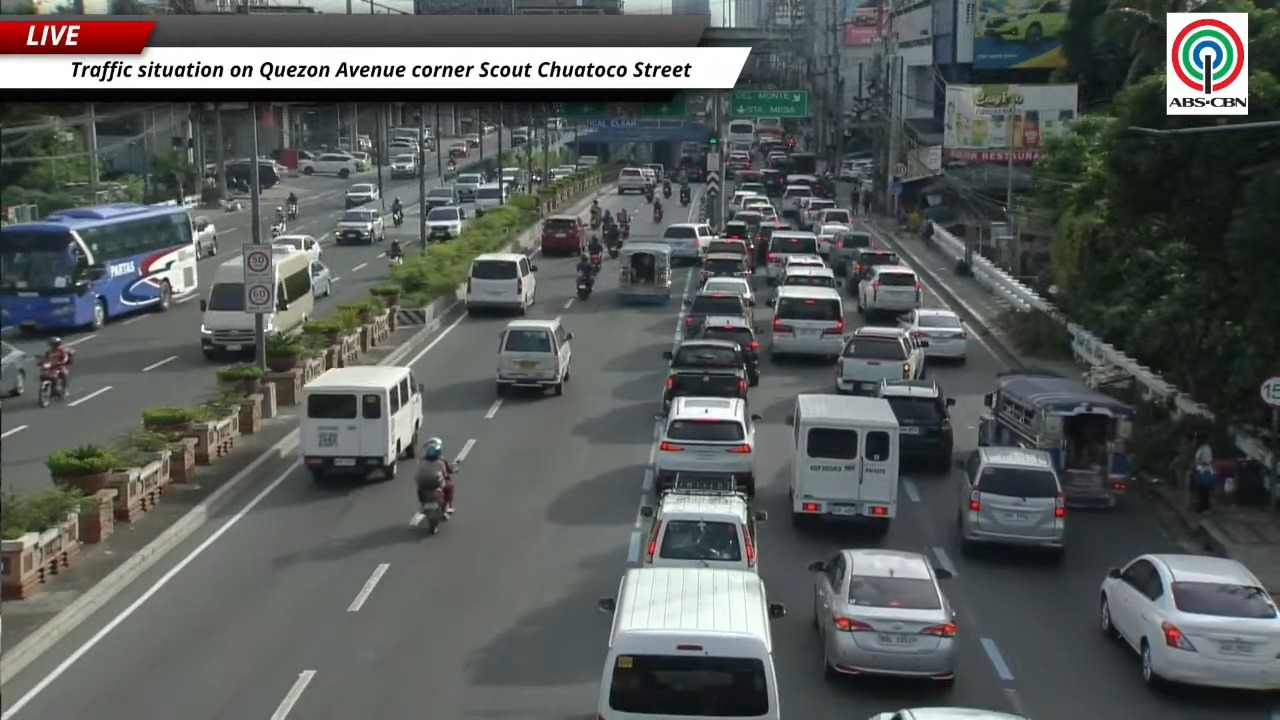bus: (0, 203, 197, 331), (726, 119, 755, 146), (755, 117, 784, 142)
car: (1100, 554, 1279, 691), (809, 549, 957, 684), (957, 447, 1065, 561), (641, 475, 766, 571), (654, 396, 761, 496), (878, 380, 954, 470), (663, 339, 750, 411), (835, 327, 926, 394), (692, 316, 760, 386), (466, 252, 536, 314), (982, 0, 1067, 45), (899, 308, 969, 362), (857, 265, 922, 318), (684, 289, 753, 333), (765, 229, 820, 284), (847, 249, 900, 295), (661, 223, 716, 262), (869, 706, 1029, 719), (829, 230, 874, 274), (0, 341, 35, 396), (542, 214, 586, 256), (334, 208, 384, 244), (700, 277, 755, 307), (778, 264, 839, 289), (708, 236, 754, 269), (699, 253, 751, 282), (425, 205, 467, 240), (299, 153, 357, 178), (271, 234, 322, 260), (814, 221, 849, 257), (473, 182, 511, 215), (799, 196, 835, 230), (730, 209, 764, 243), (782, 184, 813, 219), (193, 216, 217, 257), (616, 167, 650, 194), (454, 173, 485, 202), (781, 253, 825, 273), (344, 183, 379, 208), (745, 199, 780, 222), (310, 261, 332, 297), (425, 186, 457, 209), (815, 207, 852, 226), (390, 154, 418, 179), (720, 220, 751, 241), (729, 191, 758, 210), (387, 141, 418, 156), (349, 151, 371, 171), (643, 163, 666, 181), (548, 167, 575, 181), (447, 142, 469, 159), (737, 183, 765, 196), (464, 133, 480, 148)
motorcycle: (412, 484, 446, 534), (37, 362, 65, 407), (576, 273, 593, 300), (603, 224, 621, 247), (589, 251, 602, 273), (607, 242, 622, 259), (271, 221, 286, 238), (387, 253, 402, 266), (392, 211, 403, 227), (287, 204, 298, 220), (653, 206, 663, 223), (680, 190, 690, 207), (644, 187, 654, 203), (590, 215, 601, 229), (620, 222, 628, 238), (664, 183, 671, 198)
